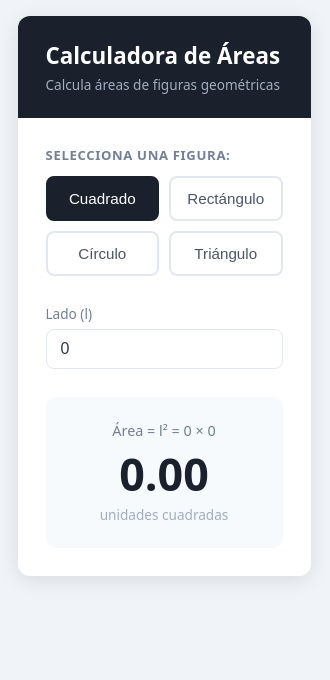
it: Calculadora de Áreas › debe mostrar dos inputs cuando se selecciona Rectángulo
The width and height of the screenshot is (330, 680).
Click the button "Rectángulo": (226, 198) left=169, top=176, right=282, bottom=221
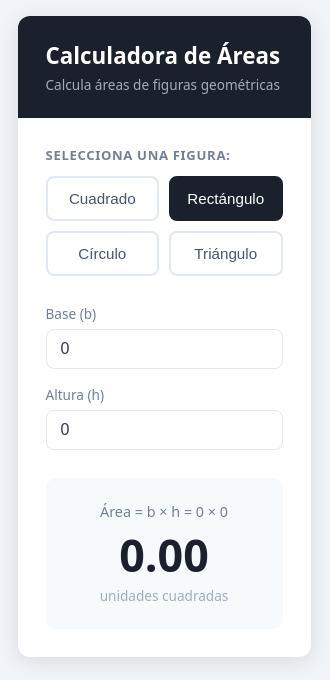
Expected: the number of number fields is 2, left=46, top=329, right=282, bottom=369; left=46, top=410, right=282, bottom=450
